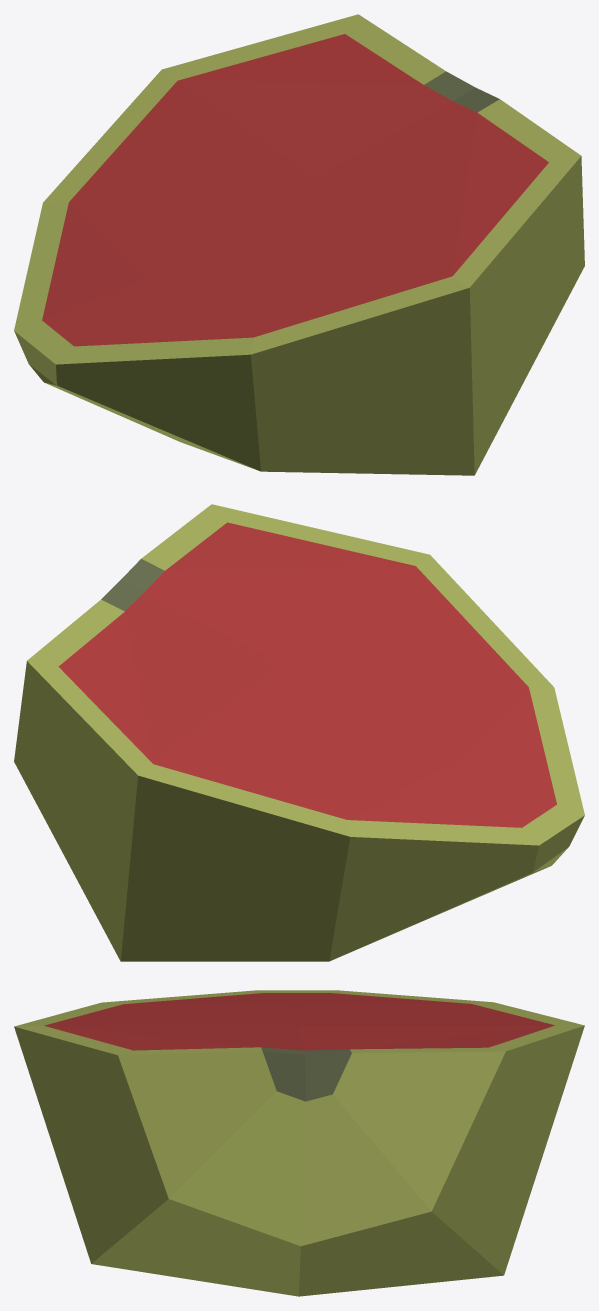
Rendered from guavaHalf.fbx.
3 renders of one model, top to bottom at view 1: azimuth 30°, elevation 25°; view 2: azimuth 150°, elevation 25°; view 3: azimuth 270°, elevation 25°, orthographic. The views are drawn at different scales.
Visible parts, largest first — view 1: guavaHalf; view 2: guavaHalf; view 3: guavaHalf.
Boxes of the visible parts, bbox=[...] form: guavaHalf: bbox=[14, 14, 584, 475]; guavaHalf: bbox=[14, 504, 584, 961]; guavaHalf: bbox=[14, 990, 584, 1296].
Size of the model in its own units: 6.04 by 3.62 by 6.38.
Materials: 1 (1 with a texture image).
